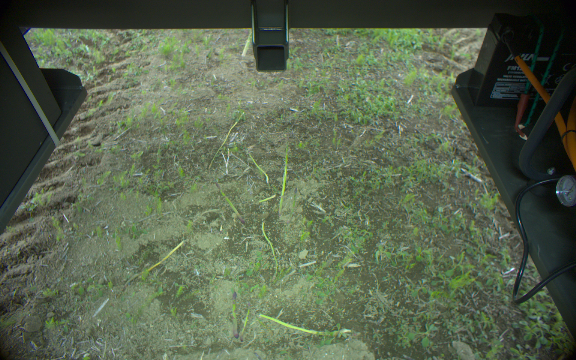aspa: (253, 309, 350, 338), (210, 181, 247, 229), (276, 140, 289, 217), (226, 287, 242, 339), (239, 30, 251, 57)
